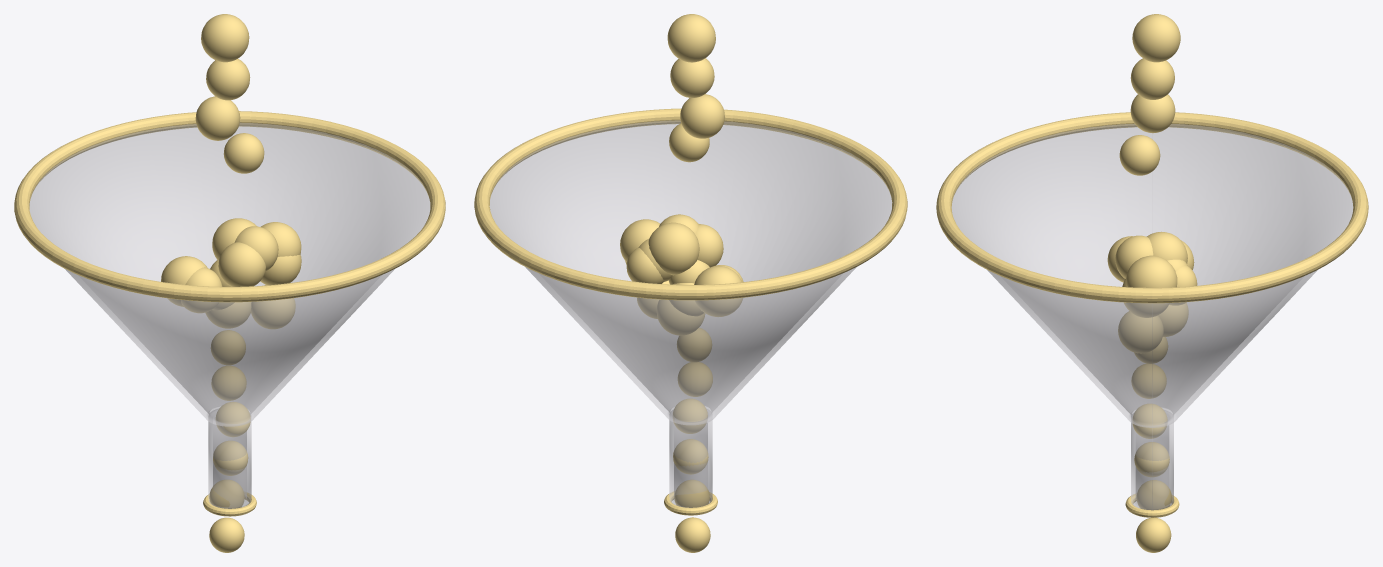
File: funnel.glb
3 views of the same model, side by side, from view 1: azimuth 30°, elevation 25°; view 2: azimuth 150°, elevation 25°; view 3: azimuth 270°, elevation 25° (orthographic).
Visible parts, largest first — view 1: Funnel; view 2: Funnel; view 3: Funnel.
Part boxes in pixels (x1=…): Funnel: x1=14, y1=14, x2=445, y2=552; Funnel: x1=474, y1=14, x2=907, y2=552; Funnel: x1=936, y1=14, x2=1368, y2=552.
Bounding box in the file's own units: 2.8 × 3.82 × 2.8.
